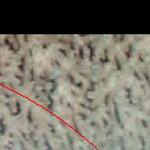alive: (10, 39, 146, 145)
